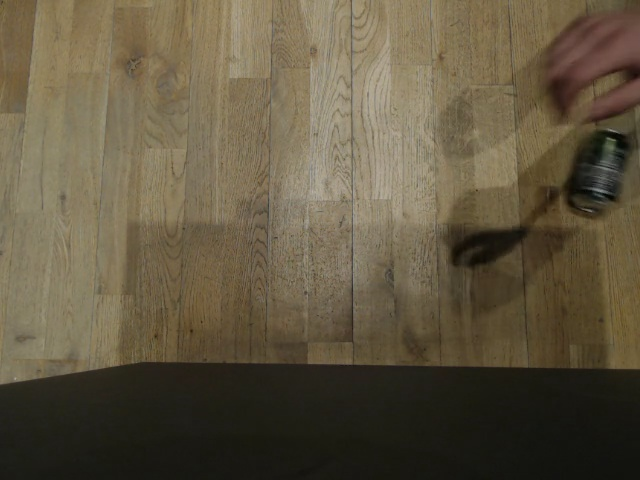beer: (568, 123, 628, 215)
